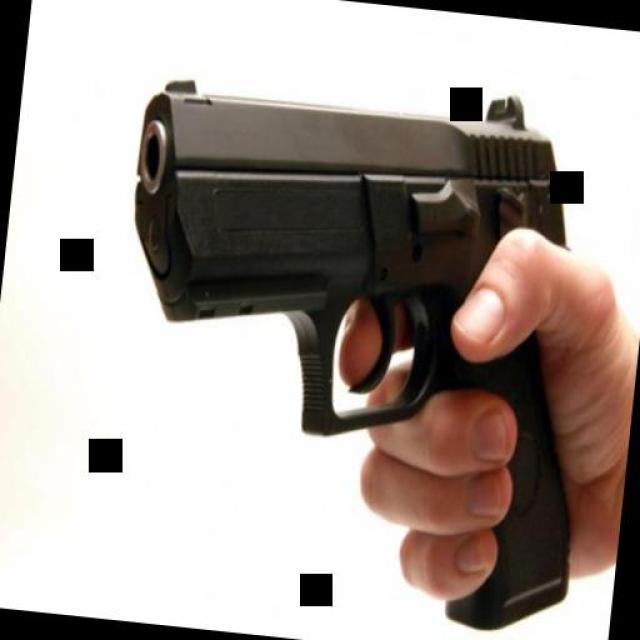gun: (88, 64, 622, 640)
